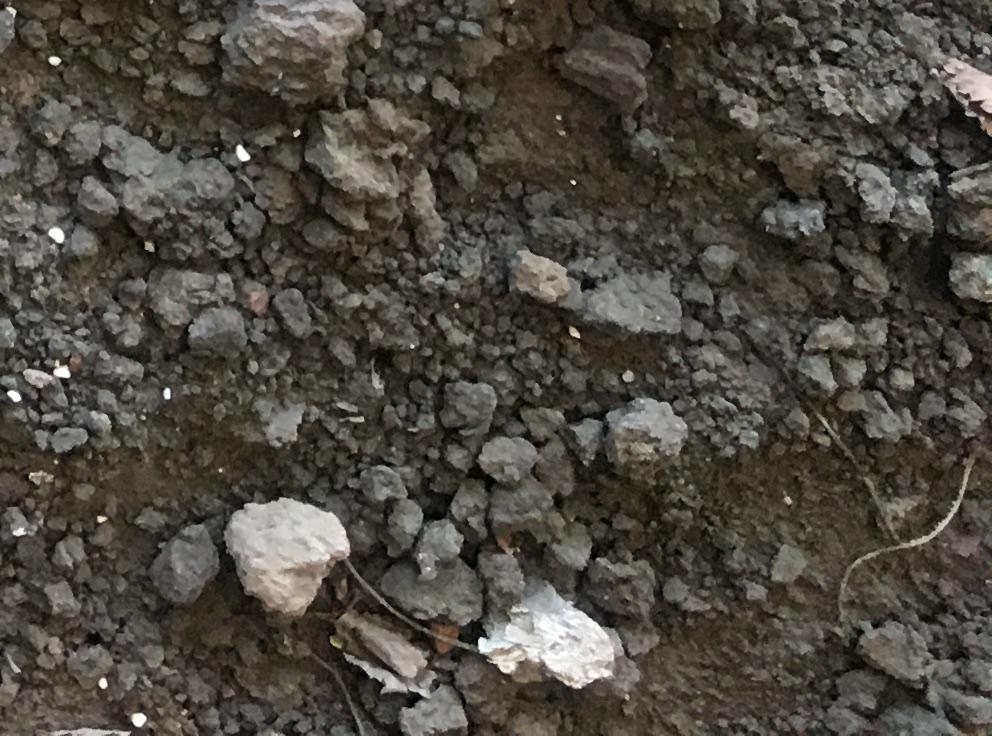block: (101, 128, 238, 258), (217, 496, 337, 615), (228, 1, 360, 108)
